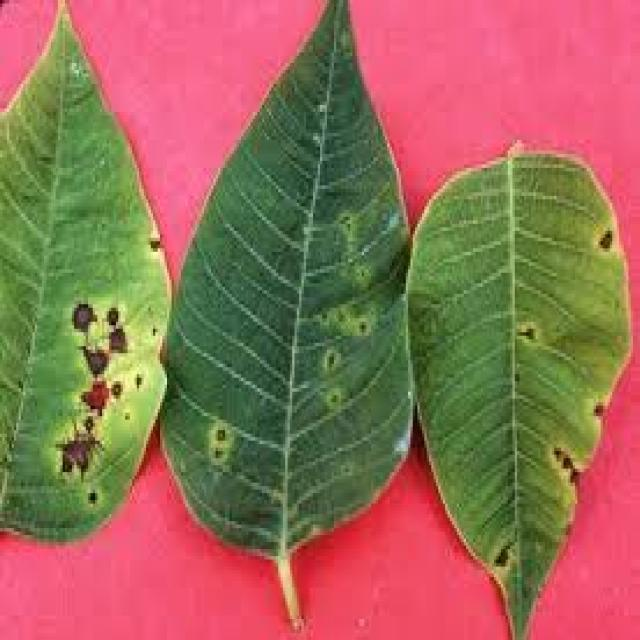Bercak Daun Serkospora: (158, 0, 412, 626), (404, 144, 630, 636), (0, 7, 172, 546)
